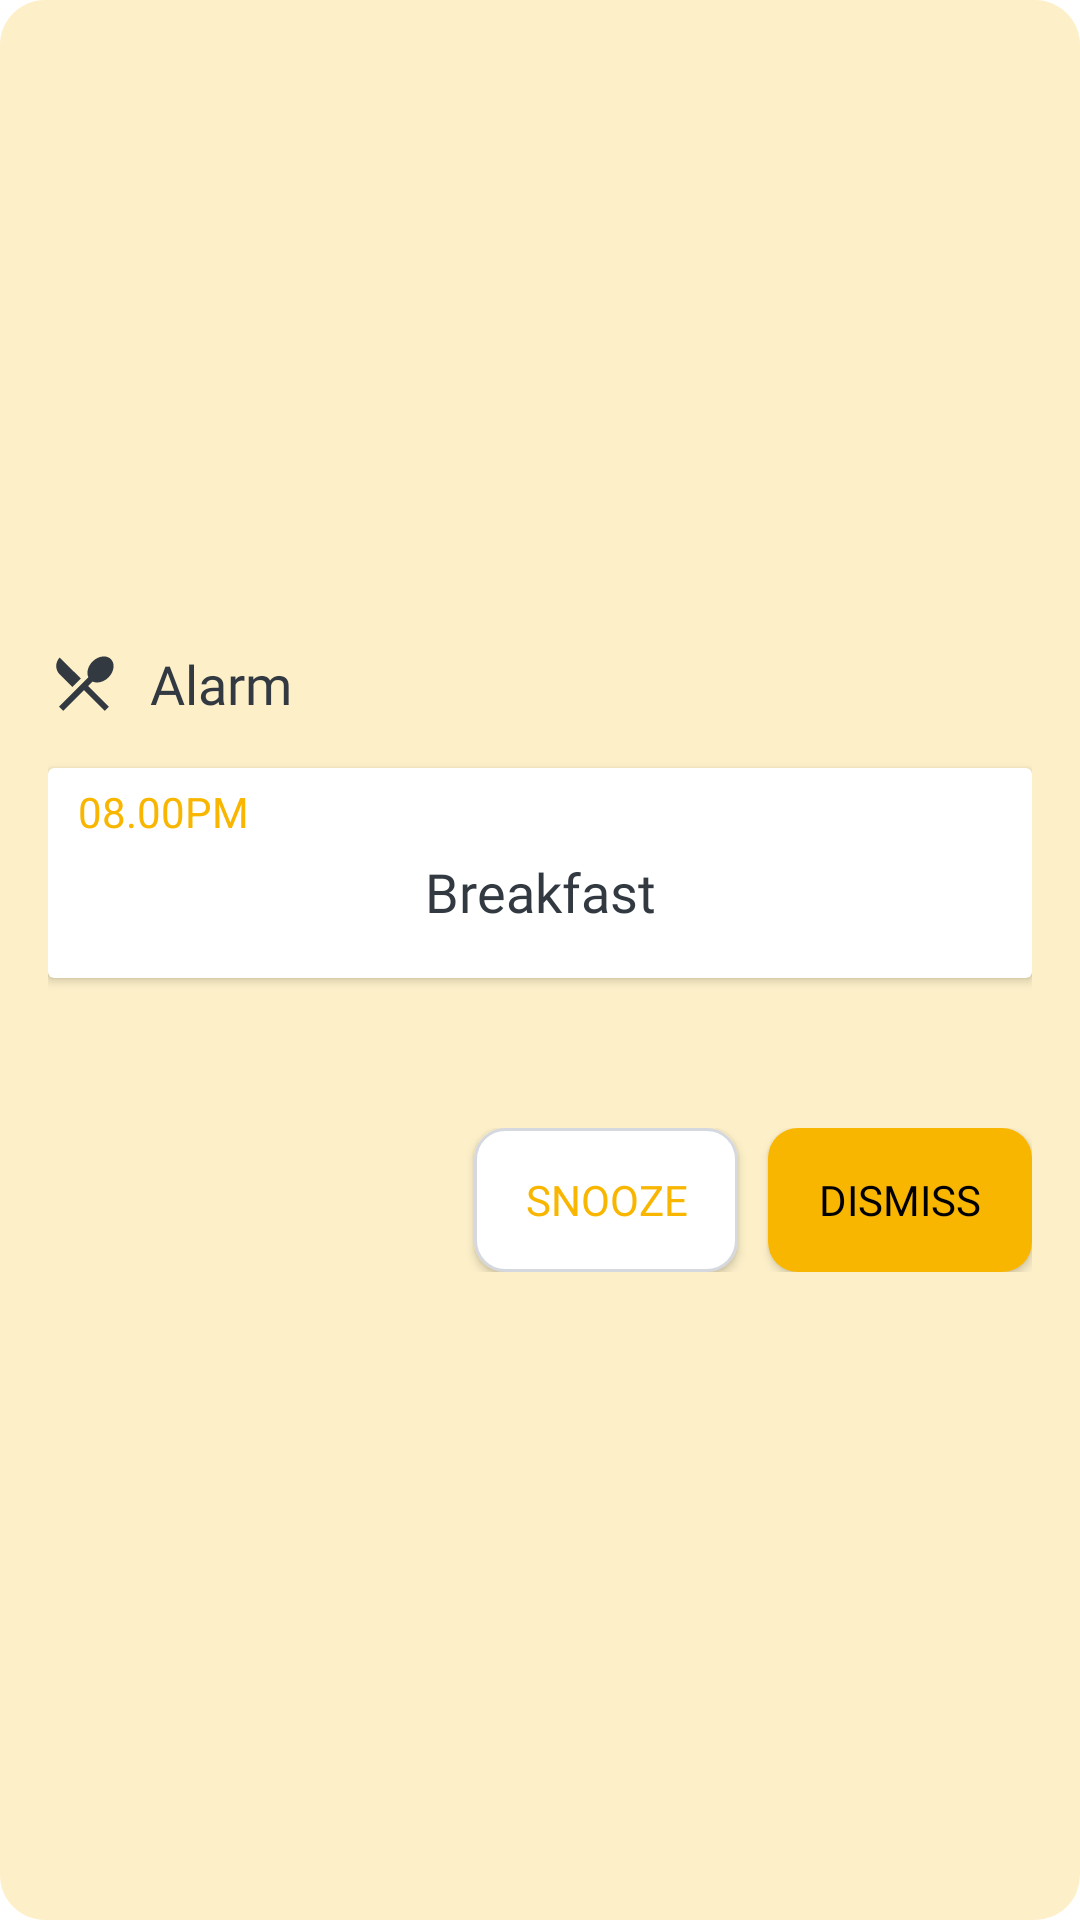

Icons on this 1080*1920 Android screen, each with its box as (x1=x1, y1=y1, x2=x2, y2=y2):
meals: (x1=56, y1=656, x2=114, y2=711)
